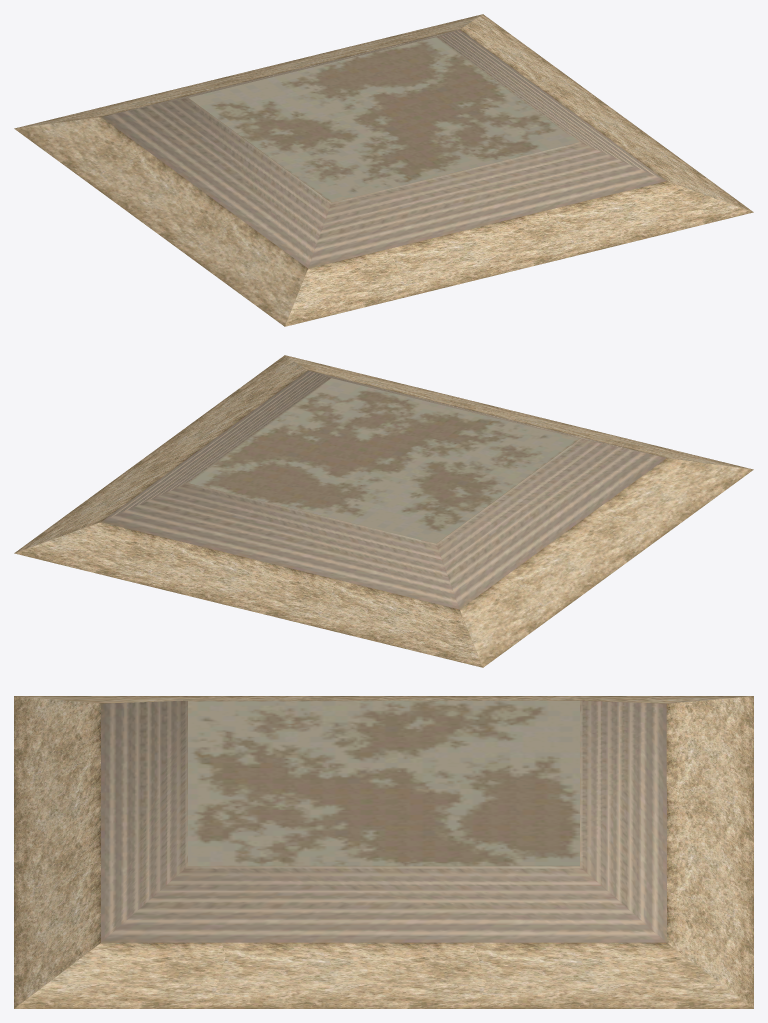
The model's file is ply_tato_garden_med_s01_l2.fbx.
3 views of the same model, one above another, from view 1: azimuth 30°, elevation 25°; view 2: azimuth 150°, elevation 25°; view 3: azimuth 270°, elevation 25° (orthographic). The views are drawn at different scales.
Visible parts, largest first — view 1: mesh_node; view 2: mesh_node; view 3: mesh_node.
Boxes of the visible parts, <box> form: mesh_node: <box>14,14,753,326</box>; mesh_node: <box>14,355,753,667</box>; mesh_node: <box>14,696,753,1008</box>.
Bounding box in the file's own units: 34 × 3.5 × 34.
